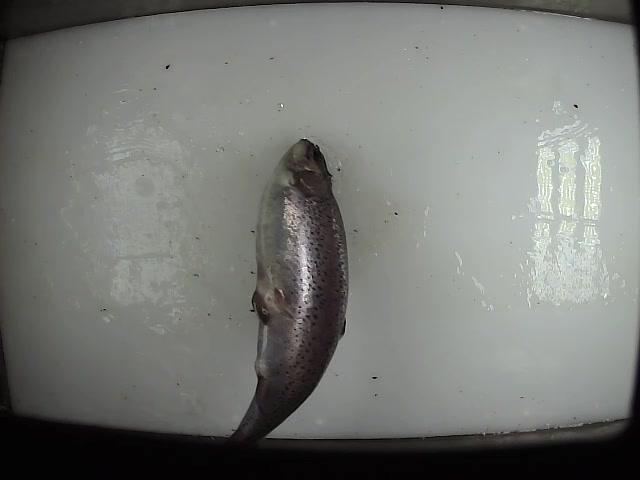Fish: (226, 139, 349, 445)
